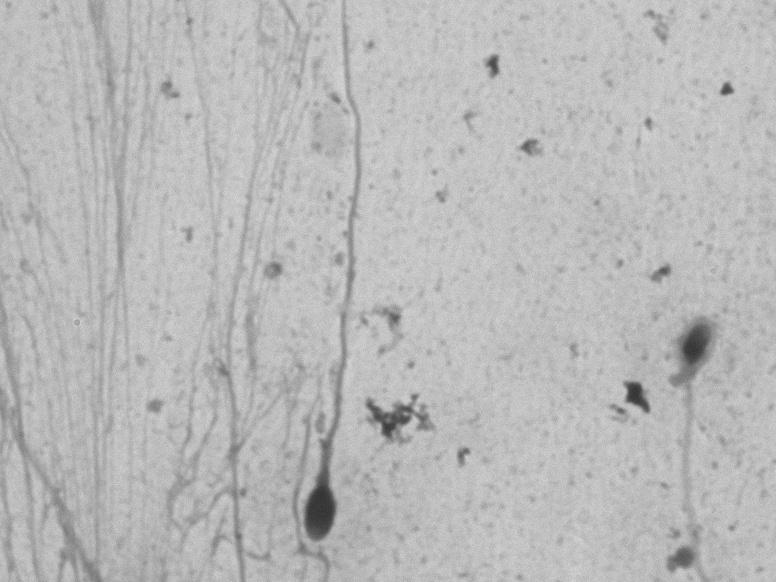Abnormal: (633, 288, 744, 529)
Normal: (292, 26, 401, 549)
